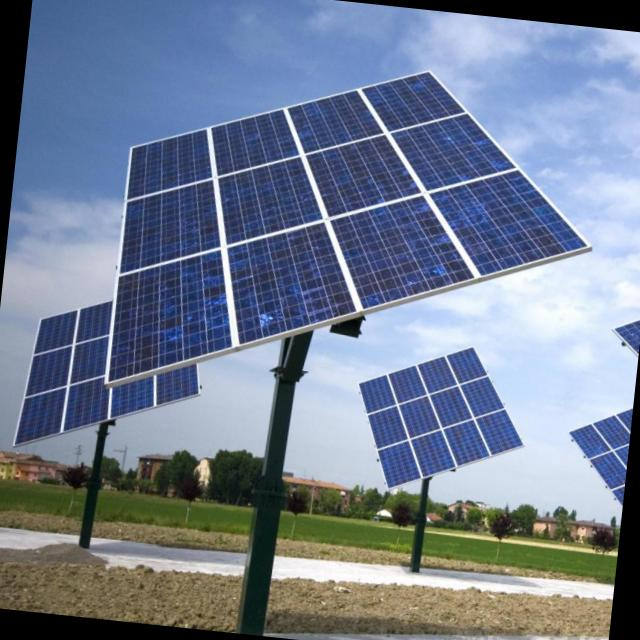no faulty: (120, 73, 589, 370), (15, 306, 196, 443), (360, 348, 523, 486)
